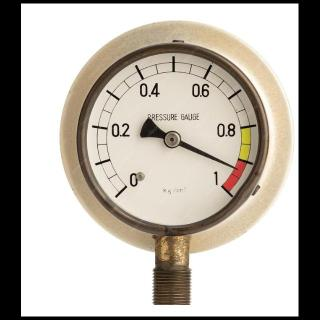gauge: (58, 4, 298, 276), (298, 3, 319, 317), (0, 4, 20, 316), (112, 175, 138, 200), (213, 176, 235, 200), (162, 129, 182, 149), (229, 162, 243, 174)
